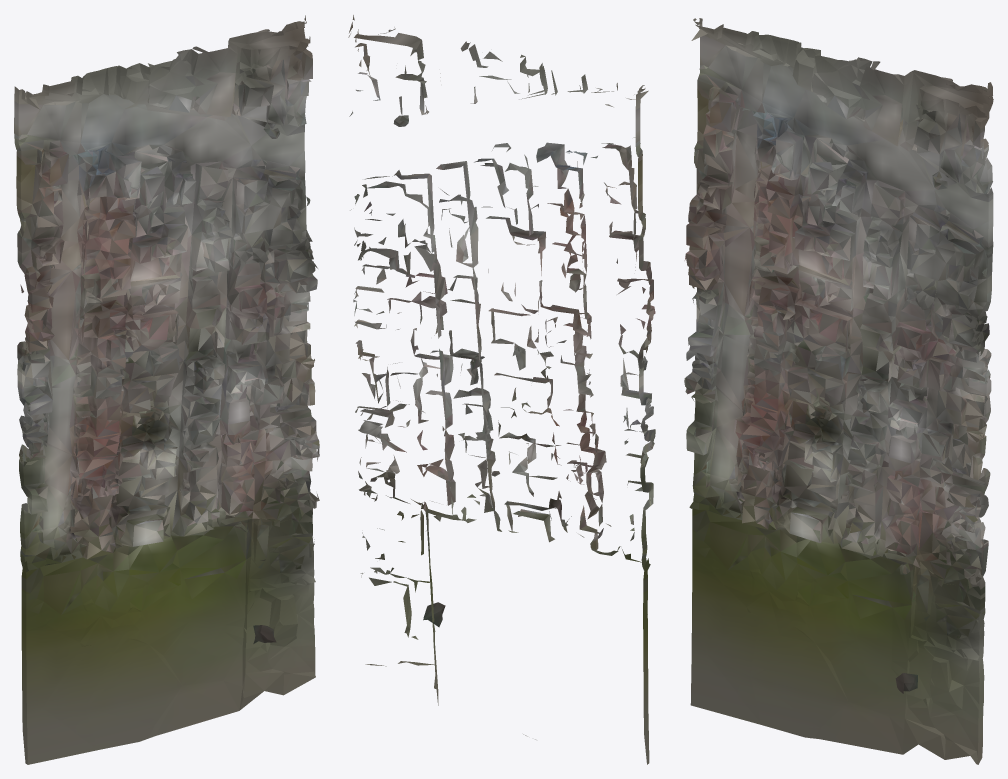
3 views of the same model, side by side, from view 1: azimuth 30°, elevation 25°; view 2: azimuth 150°, elevation 25°; view 3: azimuth 330°, elevation 25° (orthographic).
Bounding box in the file's own units: 113 × 258 × 23.05.
Materials: 1 (1 with a texture image).
